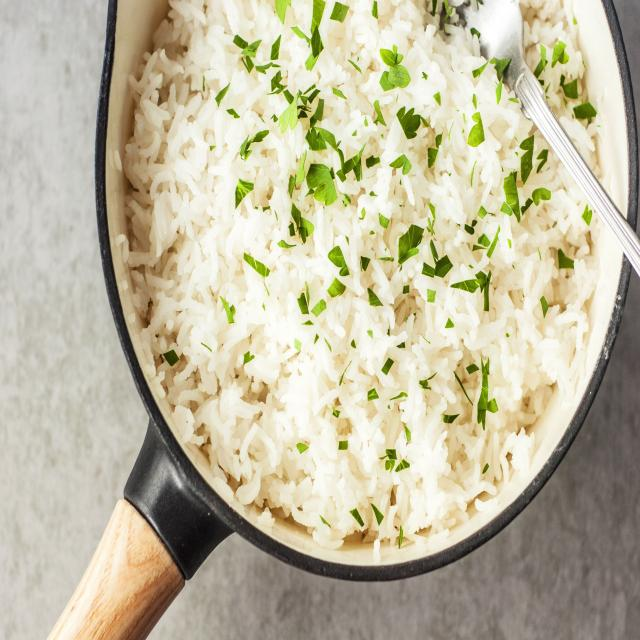Wet Waste: (122, 0, 623, 546)
